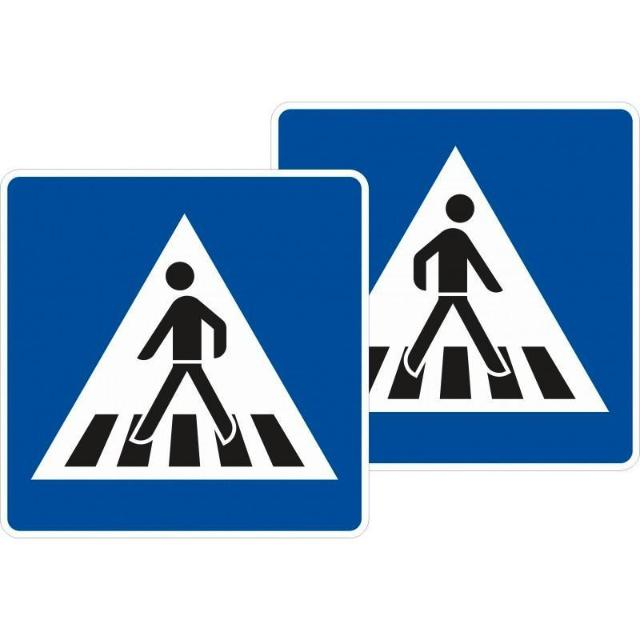crosswalk-sign: (6, 171, 369, 535), (369, 103, 639, 463)
